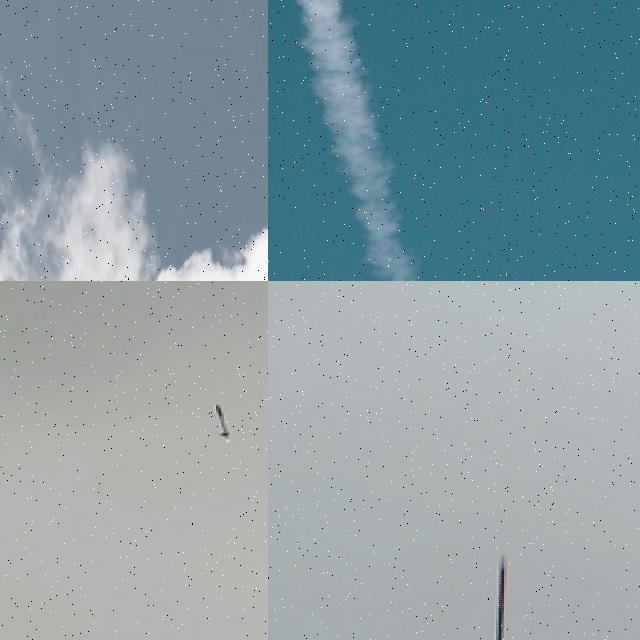Rocket: (485, 552, 507, 640), (214, 404, 230, 438)
